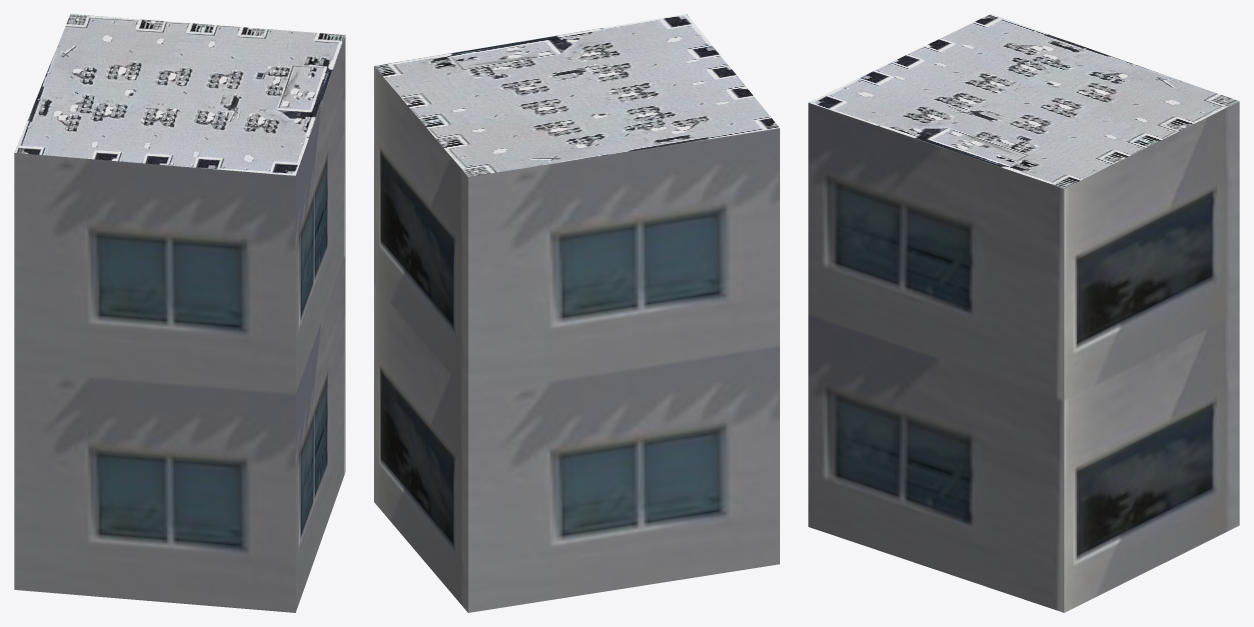
The model's file is ResTex__670.fbx.
3 renders of one model, left to right at view 1: azimuth 30°, elevation 25°; view 2: azimuth 150°, elevation 25°; view 3: azimuth 270°, elevation 25°, orthographic. The views are drawn at different scales.
Parts seen in each view (by area): view 1: CityEngineMaterial_10_m, CityEngineMaterial_m; view 2: CityEngineMaterial_10_m, CityEngineMaterial_m; view 3: CityEngineMaterial_10_m, CityEngineMaterial_m.
Boxes of the visible parts, left/top/right/bottom form: CityEngineMaterial_10_m: left=14, top=35, right=345, bottom=612; CityEngineMaterial_m: left=14, top=14, right=345, bottom=175; CityEngineMaterial_10_m: left=374, top=66, right=779, bottom=612; CityEngineMaterial_m: left=374, top=14, right=779, bottom=176; CityEngineMaterial_10_m: left=808, top=101, right=1239, bottom=612; CityEngineMaterial_m: left=808, top=14, right=1239, bottom=188.
Size of the model in its own units: 5.3 by 6 by 5.53.
Materials: 2 (2 with a texture image).
